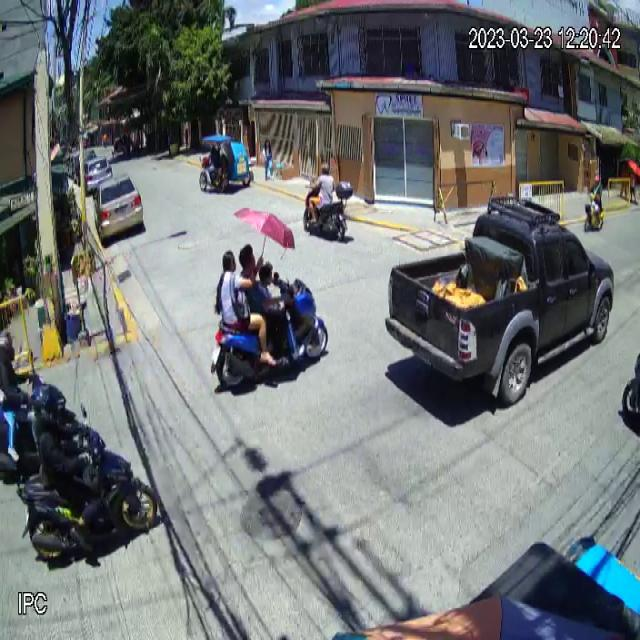Car: (384, 195, 616, 408)
Motorcycle: (17, 402, 159, 564), (211, 277, 329, 390), (302, 173, 354, 244)
Tricycle: (198, 132, 254, 196)
